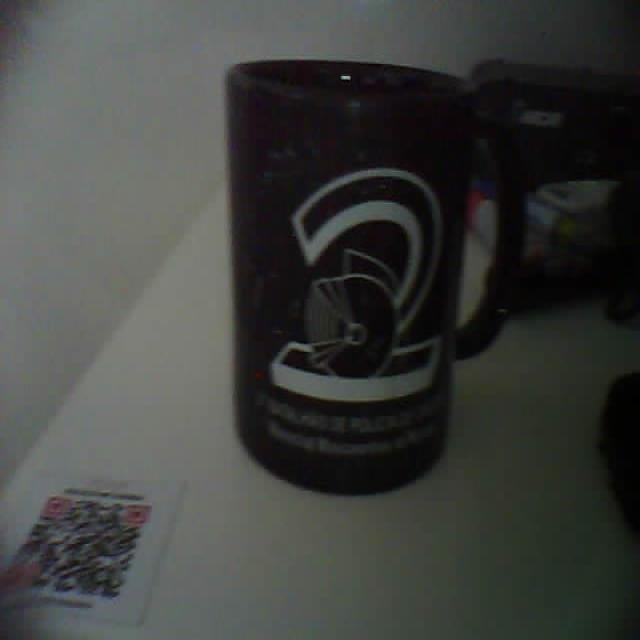caneca: (227, 60, 522, 489)
